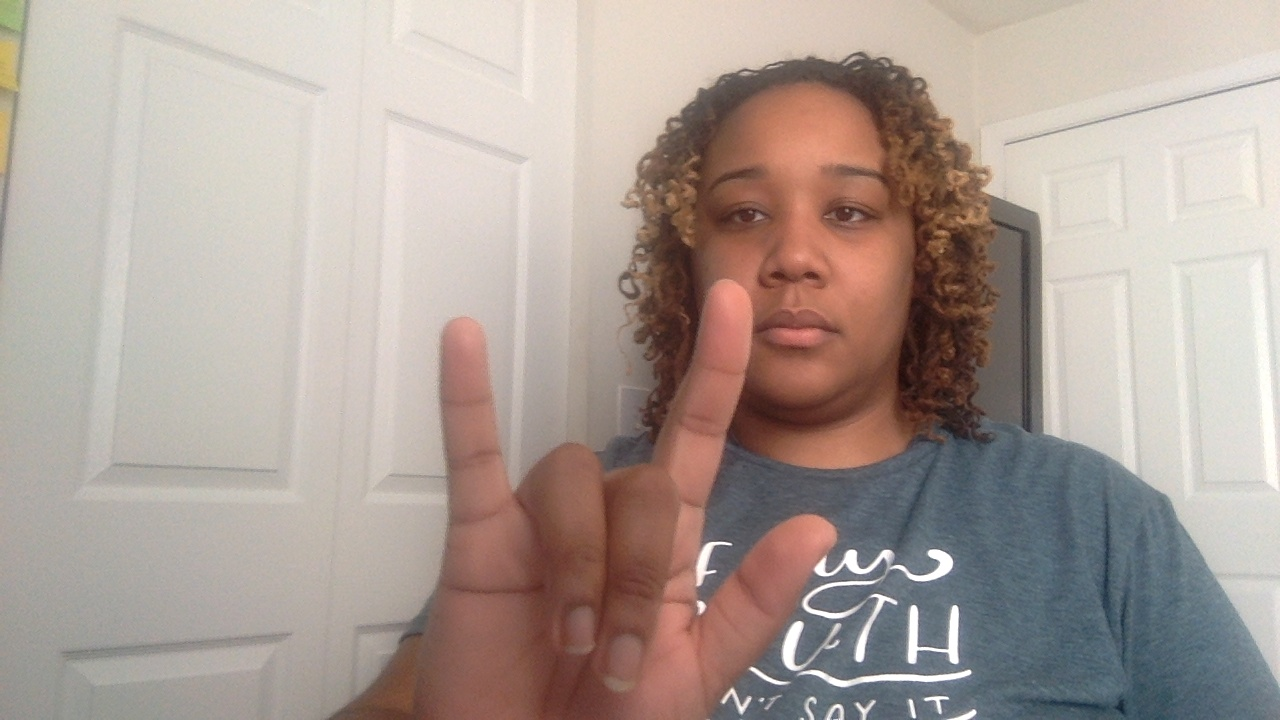i_love_you: (409, 280, 835, 720)
